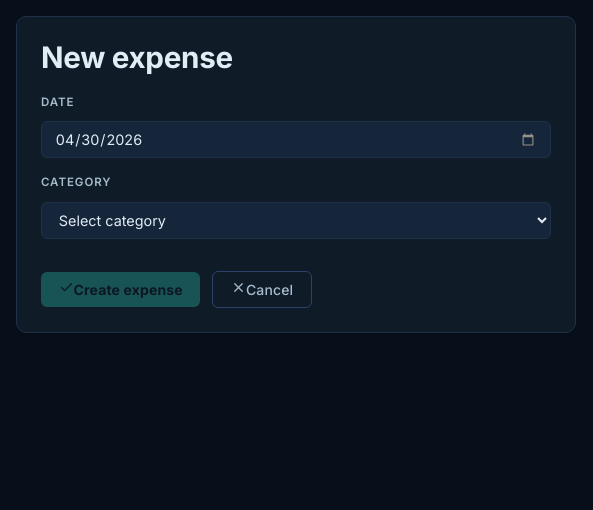
ExpenseFormPage › create mode › should clear fuel-specific fields when category changes
Note: Act — select Fuel first
Select "Fuel" in the dropdown named "category": (296, 220) [41,202,551,239]
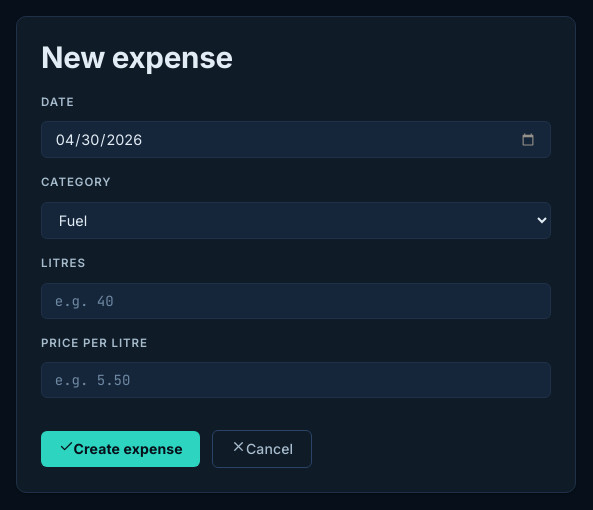
In the number field named "litres": (296, 300) [41,282,551,318], type "40"
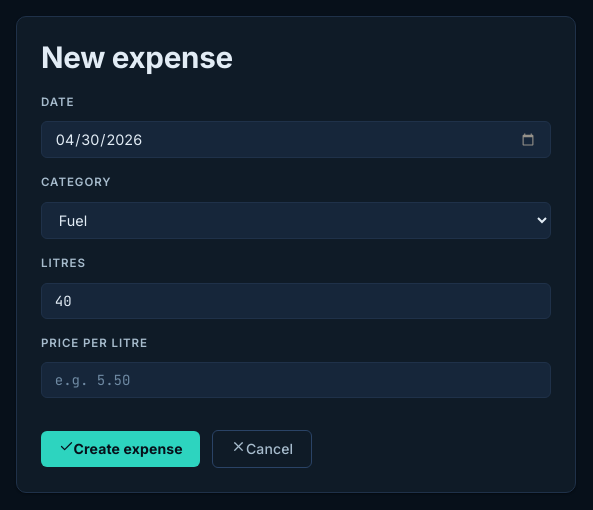
Note: Act — change to Maintenance
Select "Maintenance" in the dropdown named "category": (296, 220) [41,202,551,239]
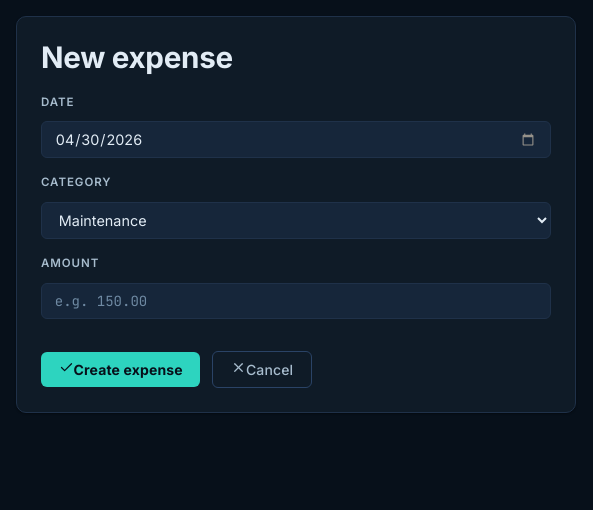
expect the number field named "litres" is gone: met
expect the number field named "amount" is not empty: met, box [41,282,551,318]
